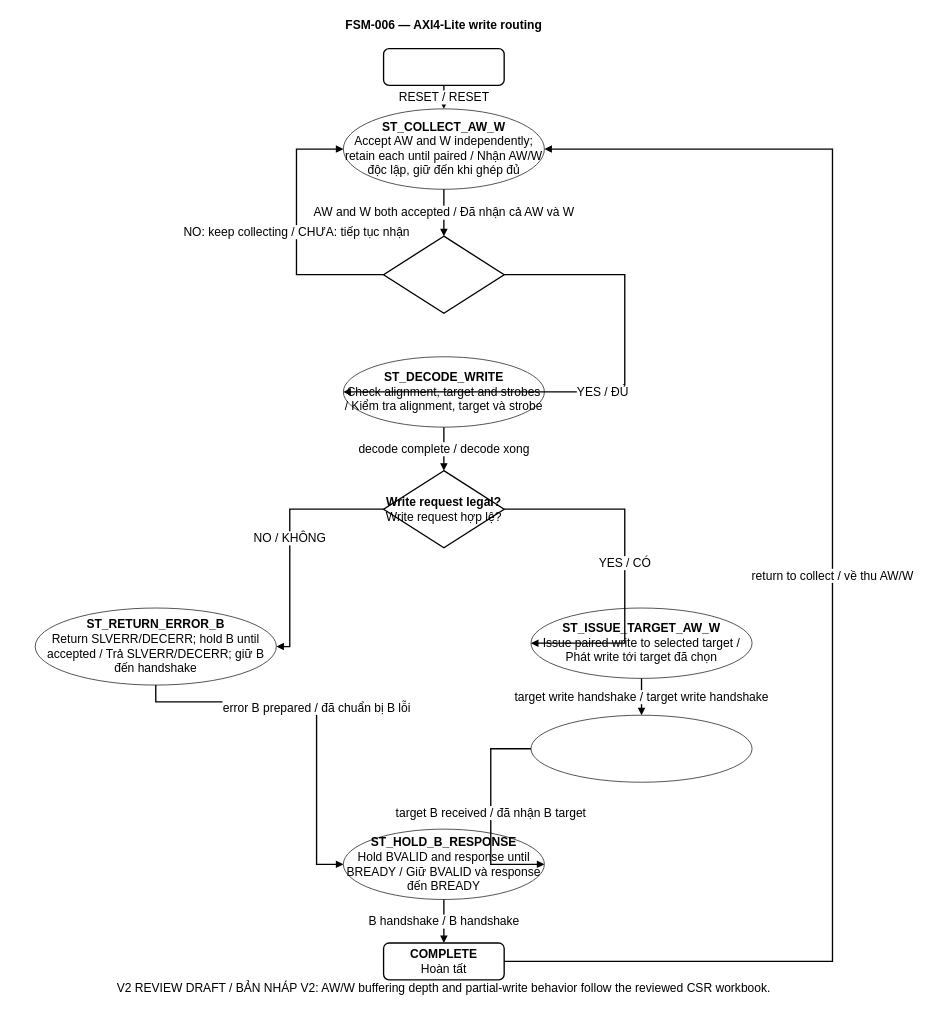
The diagram is 925 pixels wide and 1014 high, and some of its shapes have lost their labels. Here are the shapes that lost their labels. From the top down, the centre of each, then its label:
the point at 444,67: RESET RELEASED Reset đã nhả
the point at 444,274: Address and data paired? Đã nhận đủ address và data?
the point at 641,748: ST_WAIT_TARGET_B Wait for target B response / Chờ response B từ target
